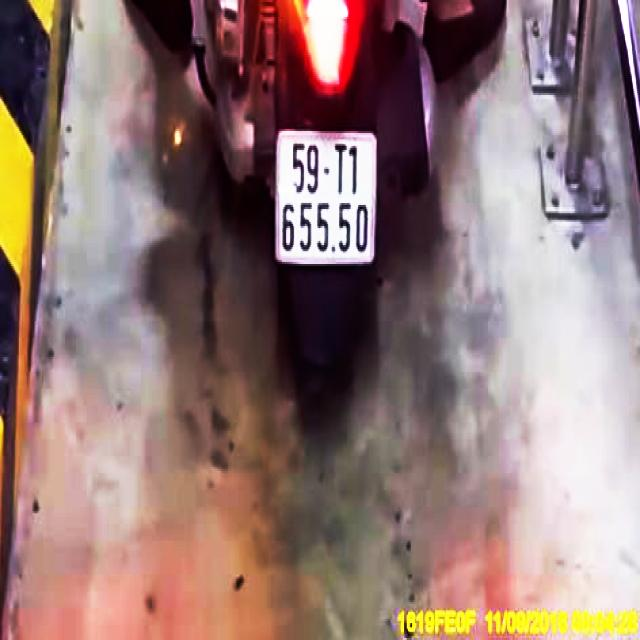license_plate: (276, 131, 377, 264)
